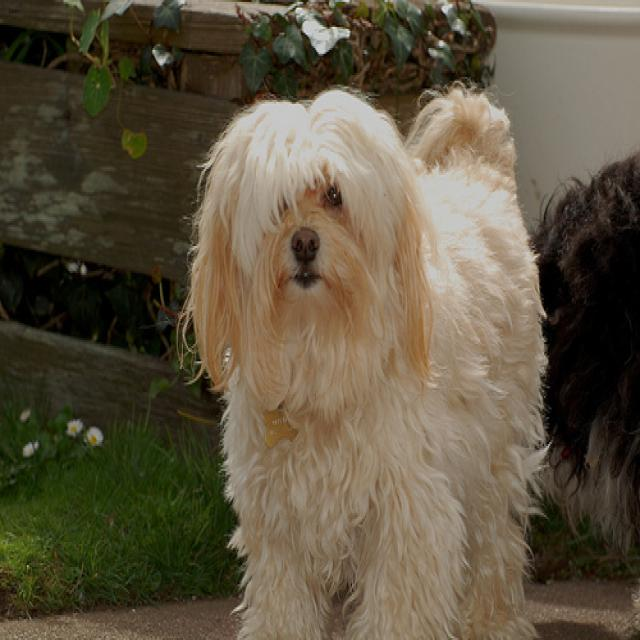dog-havanese: (174, 71, 558, 636)
